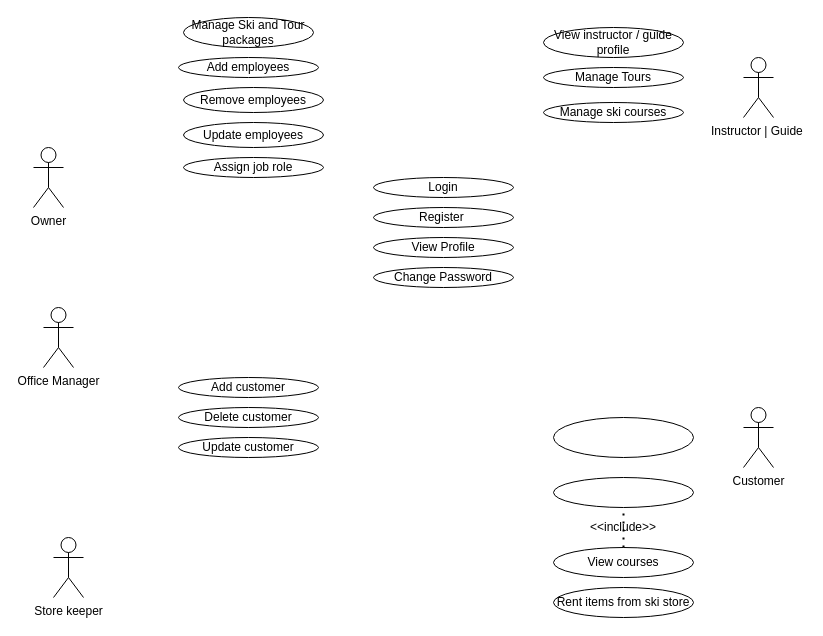
The diagram is 823 pixels wide and 636 high, and some of its shapes have lost their labels. Each missing label, with the centre of its shape:
"Add course" belongs at point (623, 492).
"Search and view courses and tours" belongs at point (623, 437).
